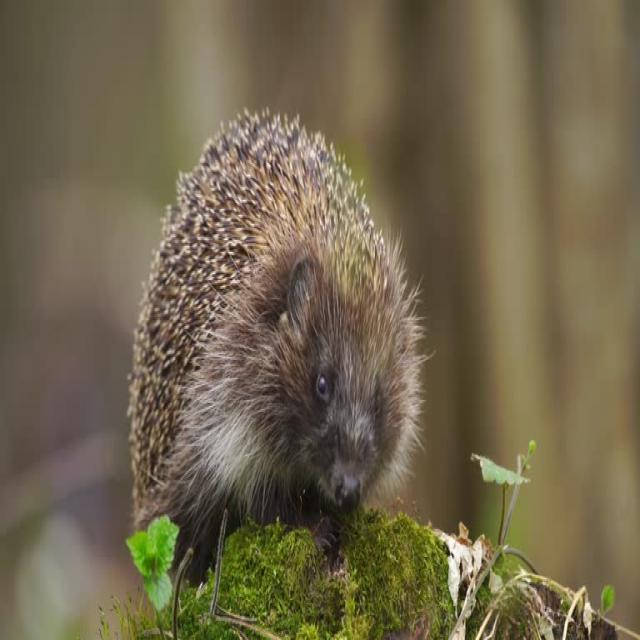Hedgehog: (128, 109, 425, 568)
